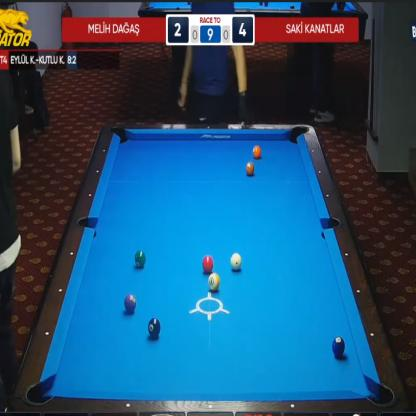Ball: (147, 317, 161, 339), (332, 336, 346, 357), (124, 293, 136, 313), (230, 253, 242, 271), (208, 273, 220, 291), (135, 250, 146, 268), (202, 255, 213, 273), (252, 145, 262, 159), (245, 162, 254, 176)
